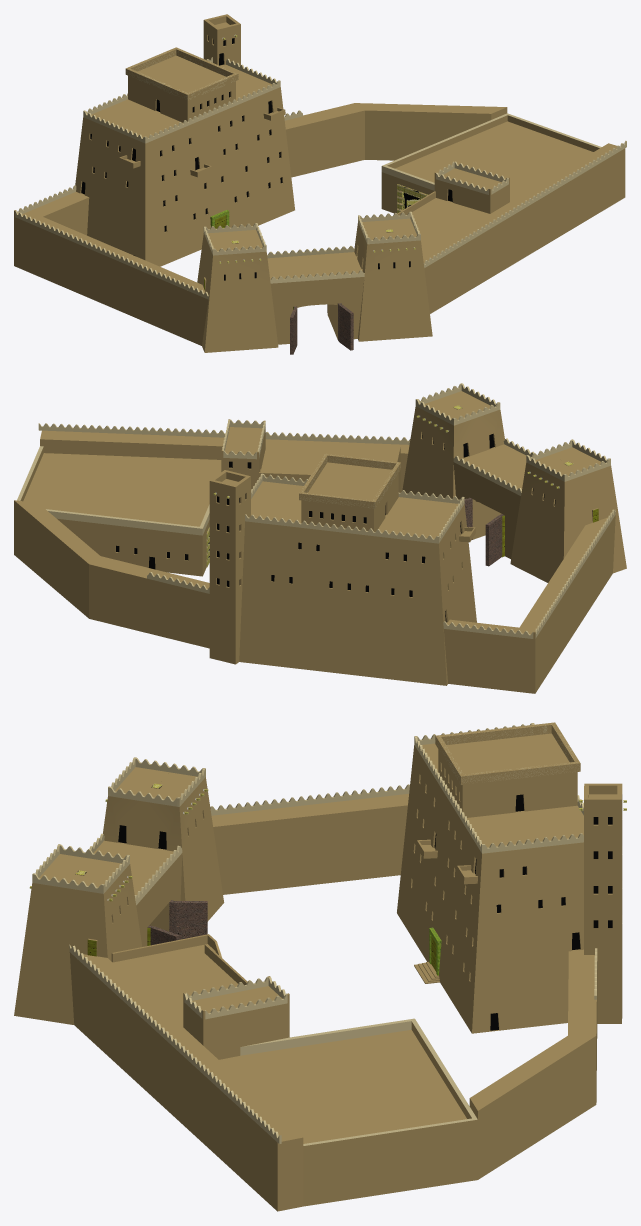
File: Funduq.dae
3 views of the same model, one above another, from view 1: azimuth 30°, elevation 25°; view 2: azimuth 150°, elevation 25°; view 3: azimuth 270°, elevation 25° (orthographic). The views are drawn at different scales.
Visible parts, largest first — view 1: Group3, Group2, Group1, Group_4_1_2 (×2), Group_4 (×2), Group7, Model, Group4, Group5, Group6, Group8; view 2: Group3, Group7, Group2, Group_4 (×2), Group_4_1_2 (×2), Group4, Group6, Group1, Model, Group5, Group8; view 3: Group3, Group7, Group1, Group_4 (×2), Group2, Group5, Model, Group_4_1_2 (×2), Group6, Group4, Group8.
Part boxes in pixels (x1,y1,x2,y2): Group3: (75, 47, 294, 266); Group2: (14, 192, 208, 345); Group1: (422, 143, 625, 313); Group_4_1_2 (×2): (202, 211, 414, 352); Group_4 (×2): (197, 223, 432, 341); Group7: (381, 113, 601, 213); Model: (14, 80, 507, 216); Group4: (285, 103, 364, 177); Group5: (397, 161, 509, 253); Group6: (203, 14, 240, 65); Group8: (338, 303, 353, 350); Group3: (239, 453, 476, 685); Group7: (17, 446, 221, 576); Group2: (444, 515, 615, 693); Group_4 (×2): (440, 383, 591, 582); Group_4_1_2 (×2): (402, 398, 626, 573); Group4: (89, 556, 209, 648); Group6: (209, 470, 250, 664); Group1: (40, 430, 409, 492); Model: (14, 473, 535, 639); Group5: (221, 419, 400, 492); Group8: (485, 514, 504, 566); Group3: (397, 722, 583, 1033); Group7: (219, 1018, 477, 1206); Group1: (69, 952, 303, 1211); Group_4 (×2): (14, 768, 224, 1023); Group2: (211, 794, 408, 894); Group5: (111, 934, 289, 1059); Model: (414, 723, 596, 1179); Group_4_1_2 (×2): (63, 757, 168, 1024); Group6: (584, 783, 622, 1023); Group4: (568, 949, 597, 1102); Group8: (169, 900, 207, 939).
Bounding box in the file's own units: 100 × 71.54 × 29.11.
